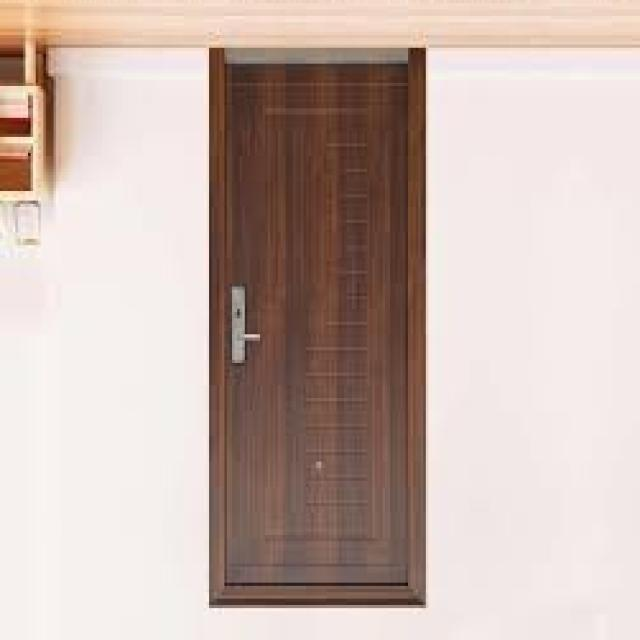door: (209, 48, 426, 608)
